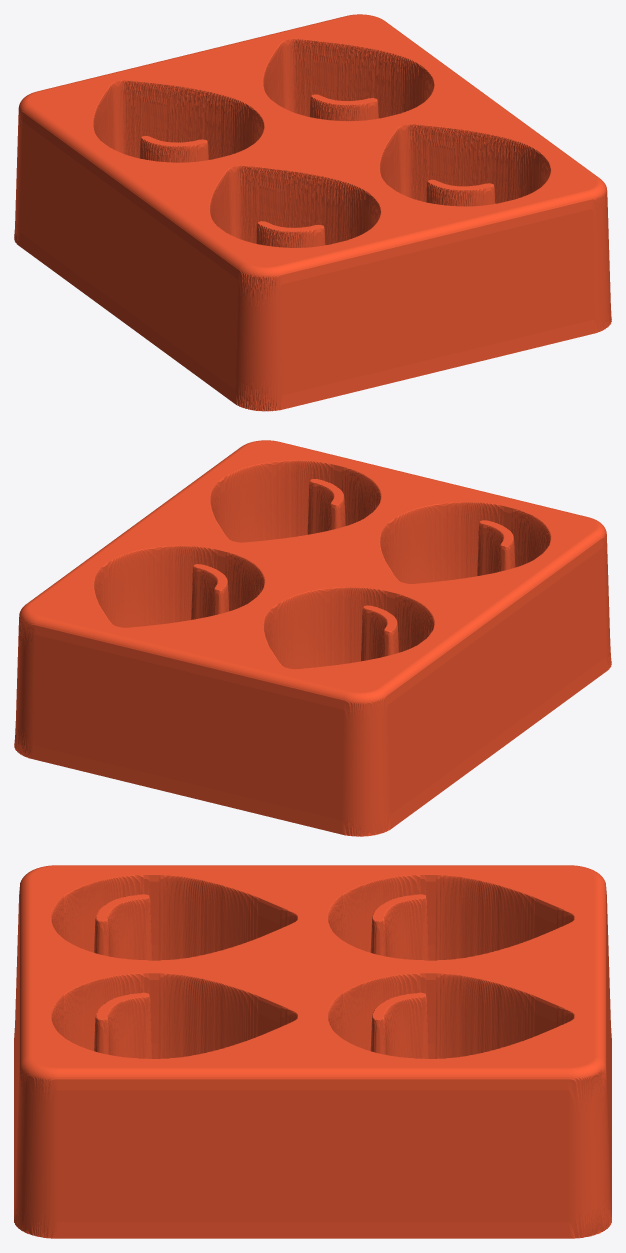
File: mold.glb
3 views of the same model, one above another, from view 1: azimuth 30°, elevation 25°; view 2: azimuth 150°, elevation 25°; view 3: azimuth 270°, elevation 25° (orthographic). The views are drawn at different scales.
Parts seen in each view (by area): view 1: geometry_0; view 2: geometry_0; view 3: geometry_0.
Boxes of the visible parts, x1,y1,x2,y2 form: geometry_0: (14, 14, 611, 411); geometry_0: (14, 440, 611, 836); geometry_0: (14, 865, 611, 1238).
Size of the model in its own units: 0.1066 by 0.0377 by 0.1248.
